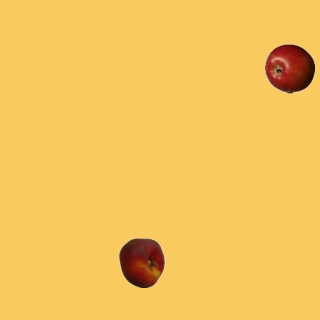Apple Braeburn: (264, 43, 314, 93)
Nectarine Flat: (116, 237, 166, 287)
